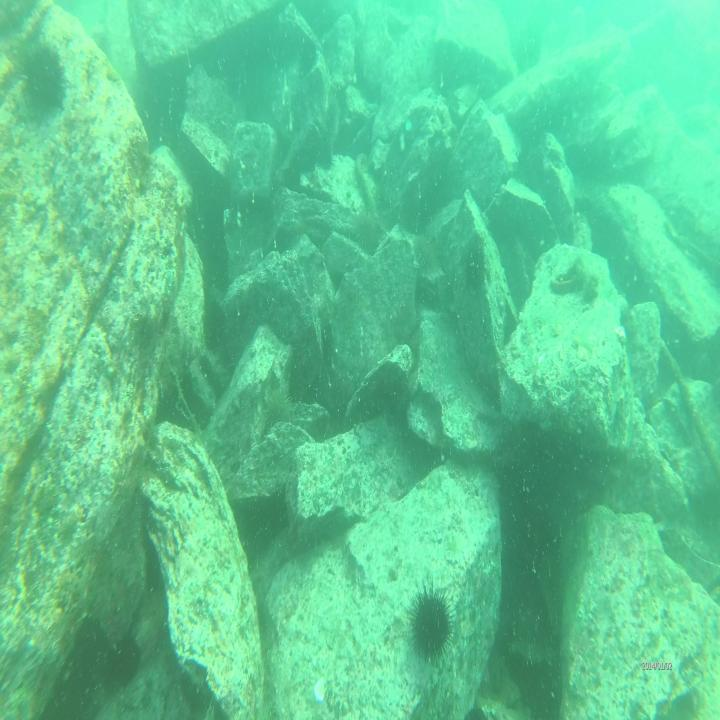echinus: (402, 582, 458, 670), (16, 37, 72, 121), (261, 382, 300, 436), (108, 628, 143, 684)
